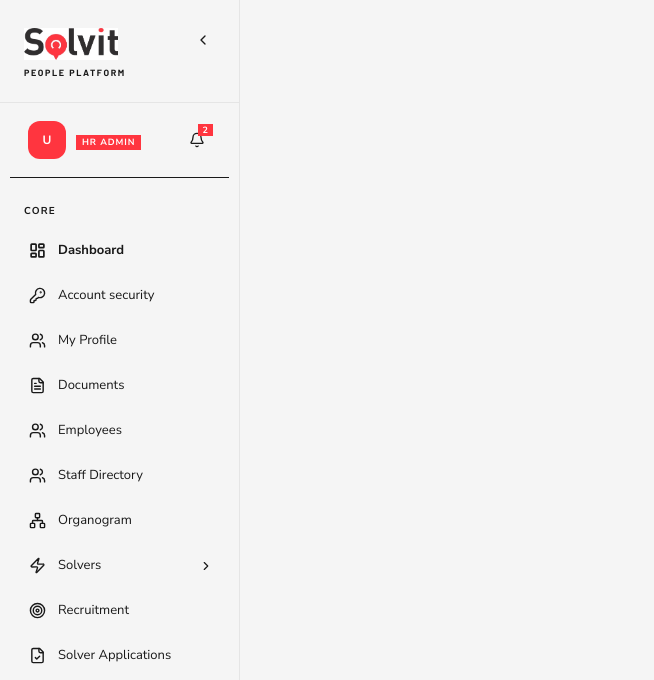
Scenario: HR notification preview hides unlinked generic updates and opens an actionable leave record
The image size is (654, 680).
Click the button with test id "notif-bell": {"x": 197, "y": 140} [183,126,211,154]
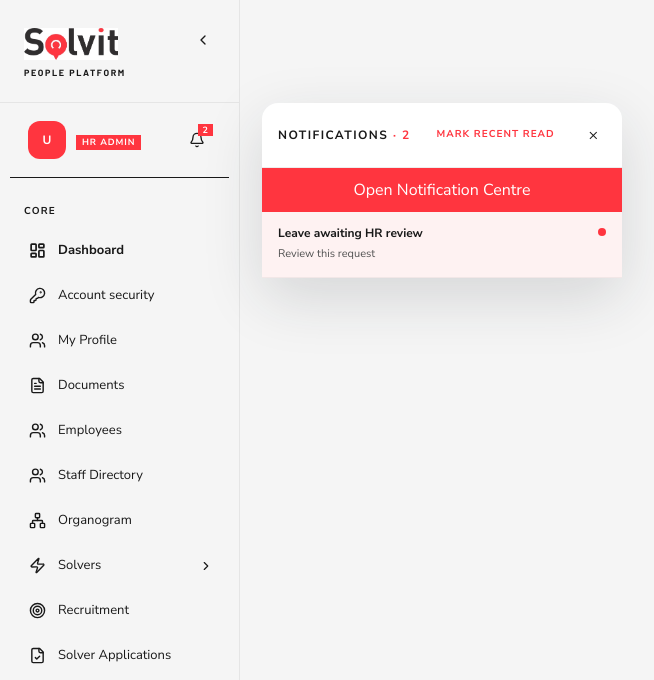
Click the button with test id "notif-leave": {"x": 350, "y": 232} [262,212,622,278]
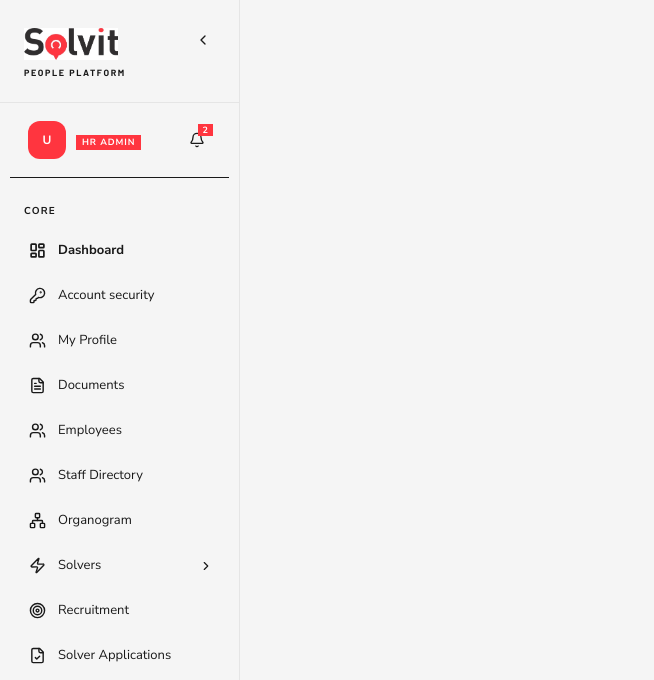
Now the element with test id "notif-dropdown" is gone
